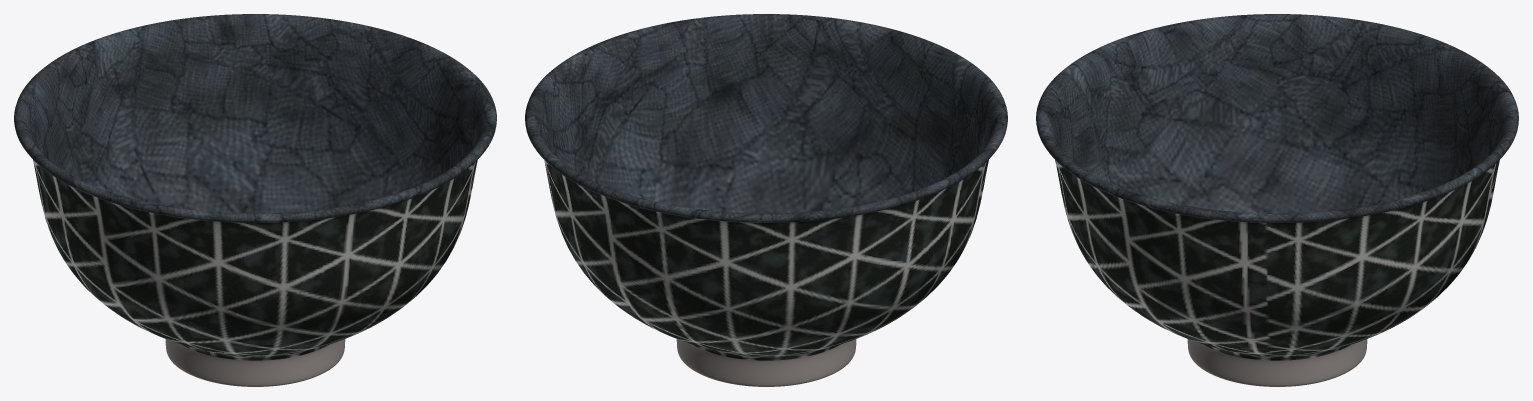
Rendered from kucuk-porselen-kase.glb.
3 views of the same model, side by side, from view 1: azimuth 30°, elevation 25°; view 2: azimuth 150°, elevation 25°; view 3: azimuth 270°, elevation 25° (orthographic).
Visible parts, largest first — view 1: Bowl L Hermitage Cinza e Bege; view 2: Bowl L Hermitage Cinza e Bege; view 3: Bowl L Hermitage Cinza e Bege.
Part boxes in pixels (x1,y1,x2,y2): Bowl L Hermitage Cinza e Bege: [14, 14, 496, 386]; Bowl L Hermitage Cinza e Bege: [525, 14, 1007, 386]; Bowl L Hermitage Cinza e Bege: [1036, 14, 1518, 386].
Bounding box in the file's own units: 0.1304 × 0.0704 × 0.1304.
1 material, 1 textured.
